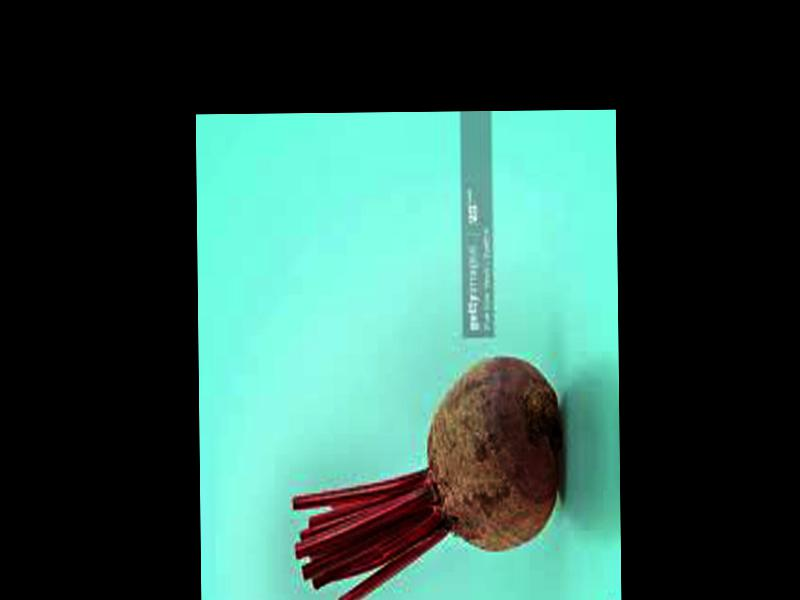Beet: (294, 356, 563, 600)
